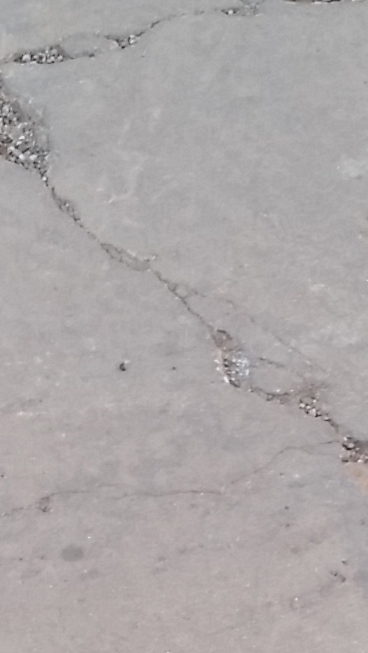A: (1, 1, 364, 484)
